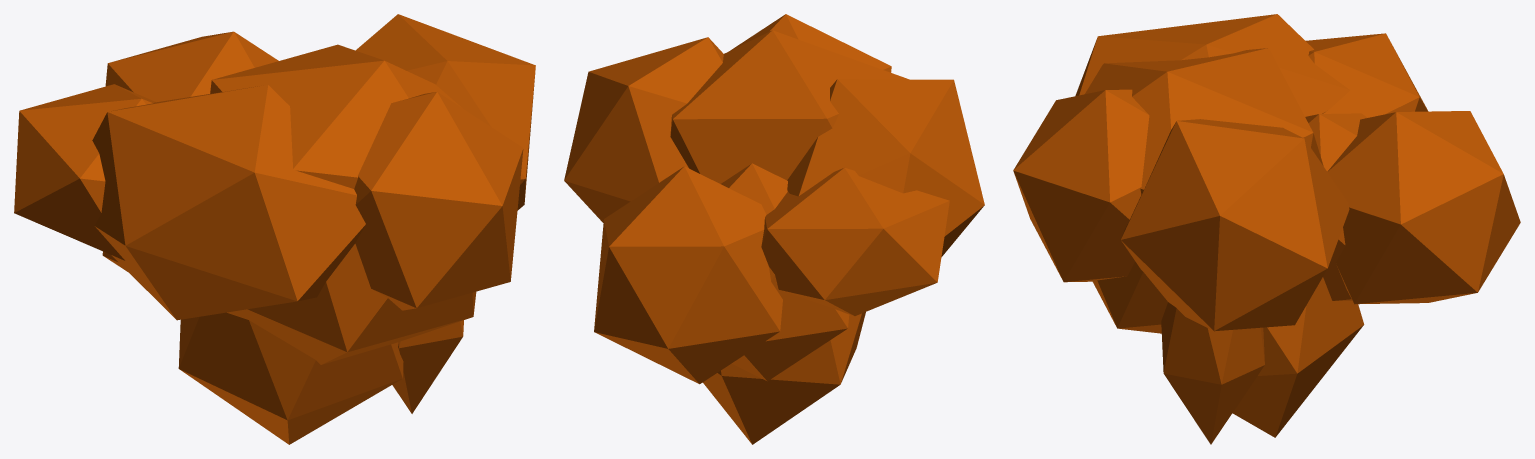
Rendered from Island5xBottom.glb.
3 renders of one model, left to right at view 1: azimuth 30°, elevation 25°; view 2: azimuth 150°, elevation 25°; view 3: azimuth 270°, elevation 25°, orthographic. The views are drawn at different scales.
Visible parts, largest first — view 1: Island5xBottom; view 2: Island5xBottom; view 3: Island5xBottom.
Boxes of the visible parts, <box> form: Island5xBottom: <box>14,14,535,444</box>; Island5xBottom: <box>564,14,984,444</box>; Island5xBottom: <box>1013,14,1520,444</box>.
Size of the model in its own units: 3.98 by 3.47 by 4.18.
